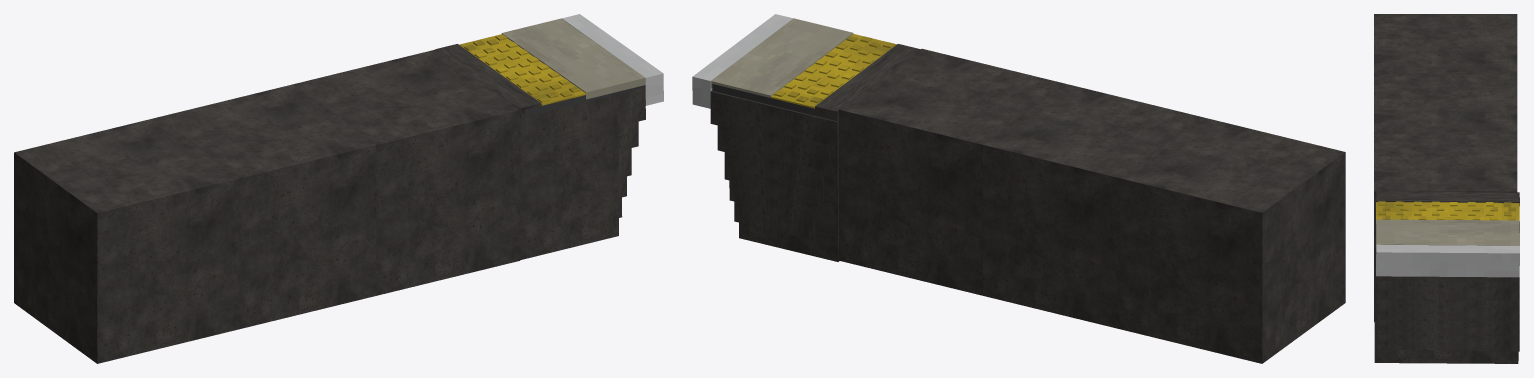
File: track.obj
3 views of the same model, side by side, from view 1: azimuth 30°, elevation 25°; view 2: azimuth 150°, elevation 25°; view 3: azimuth 270°, elevation 25° (orthographic). The views are drawn at different scales.
Parts seen in each view (by area): view 1: cube.054, cube.052, cube.053, cube.002, cube.039, cube.001, cube.005, cube, cube.040, cube.038; view 2: cube.054, cube.052, cube.053, cube.002, cube.039, cube.005, cube.001, cube.004, cube.003, cube, cube.040, cube.038; view 3: cube.053, cube.052, cube.054, cube.002, cube, cube.005, cube.039, cube.003, cube.004, cube.040, cube.001.
Boxes of the visible parts, x1,y1,x2,y2 form: cube.054: (14,117,241,363); cube.052: (293,49,520,295); cube.053: (157,84,383,328); cube.002: (520,113,638,259); cube.039: (501,18,645,99); cube.001: (520,87,645,136); cube.005: (459,34,626,197); cube: (561,14,663,105); cube.040: (435,44,541,115); cube.038: (520,85,645,117); cube.054: (1118,117,1345,363); cube.052: (838,48,1065,295); cube.053: (976,84,1202,328); cube.002: (717,118,839,261); cube.039: (711,18,853,97); cube.005: (729,34,896,221); cube.001: (710,90,838,154); cube.004: (734,189,814,240); cube.003: (724,147,823,202); cube: (692,14,792,108); cube.040: (815,44,920,118); cube.038: (712,84,838,121); cube.053: (1374,73,1517,134); cube.052: (1374,131,1517,321); cube.054: (1374,14,1517,74); cube.002: (1374,223,1519,363); cube: (1376,244,1519,277); cube.005: (1376,202,1519,336); cube.039: (1376,219,1519,246); cube.003: (1376,299,1519,321); cube.004: (1376,334,1519,351); cube.040: (1376,191,1519,205); cube.001: (1375,200,1519,282).
Bounding box in the file's own units: 3.74 × 0.9614 × 0.9678.
Materials: 5 (5 with a texture image).
